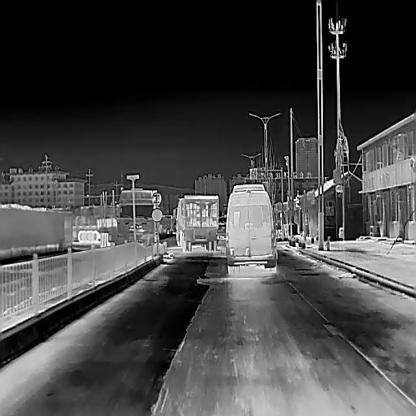car: (225, 180, 275, 268)
truck: (175, 194, 218, 250), (116, 190, 156, 247)
